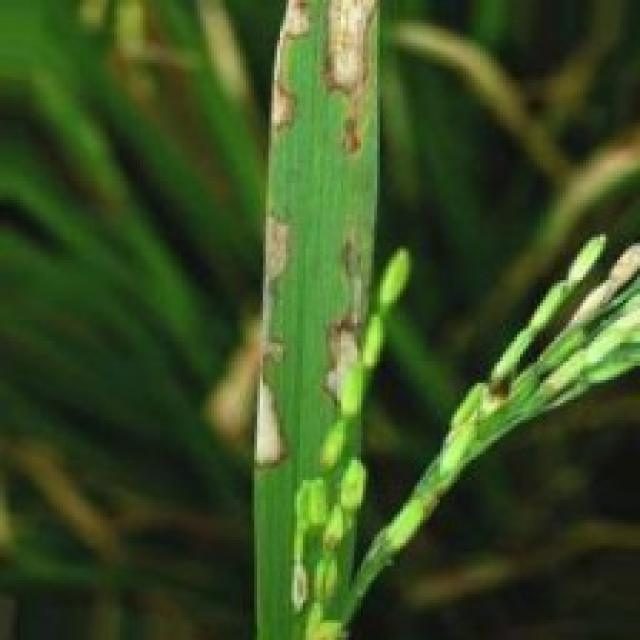Bacterial_Blight: (232, 200, 302, 466), (324, 243, 357, 415), (314, 0, 373, 94), (268, 79, 304, 140), (283, 0, 311, 49)
